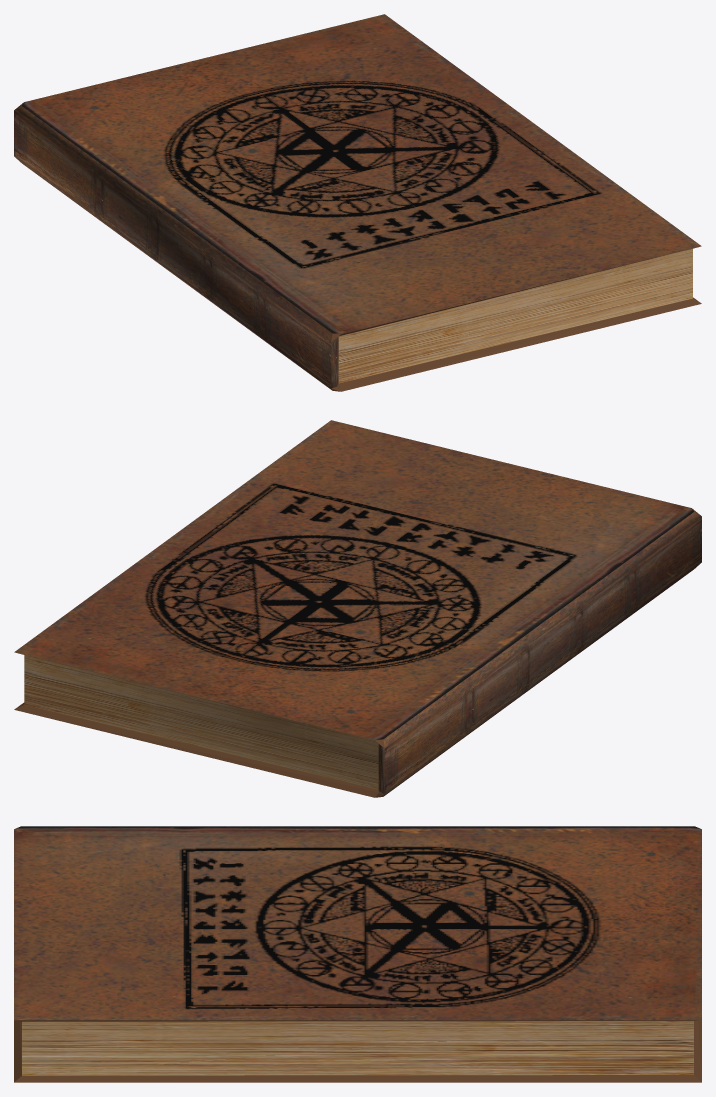
File: simple_book.glb
3 renders of one model, top to bottom at view 1: azimuth 30°, elevation 25°; view 2: azimuth 150°, elevation 25°; view 3: azimuth 270°, elevation 25°, orthographic. The views are drawn at different scales.
Parts seen in each view (by area): view 1: Box001; view 2: Box001; view 3: Box001.
Part boxes in pixels (x1=…): Box001: x1=14, y1=14, x2=701, y2=391; Box001: x1=14, y1=420, x2=701, y2=797; Box001: x1=14, y1=826, x2=701, y2=1082.
Bounding box in the file's own units: 0.2693 × 0.0399 × 0.399.
1 material, 1 textured.
